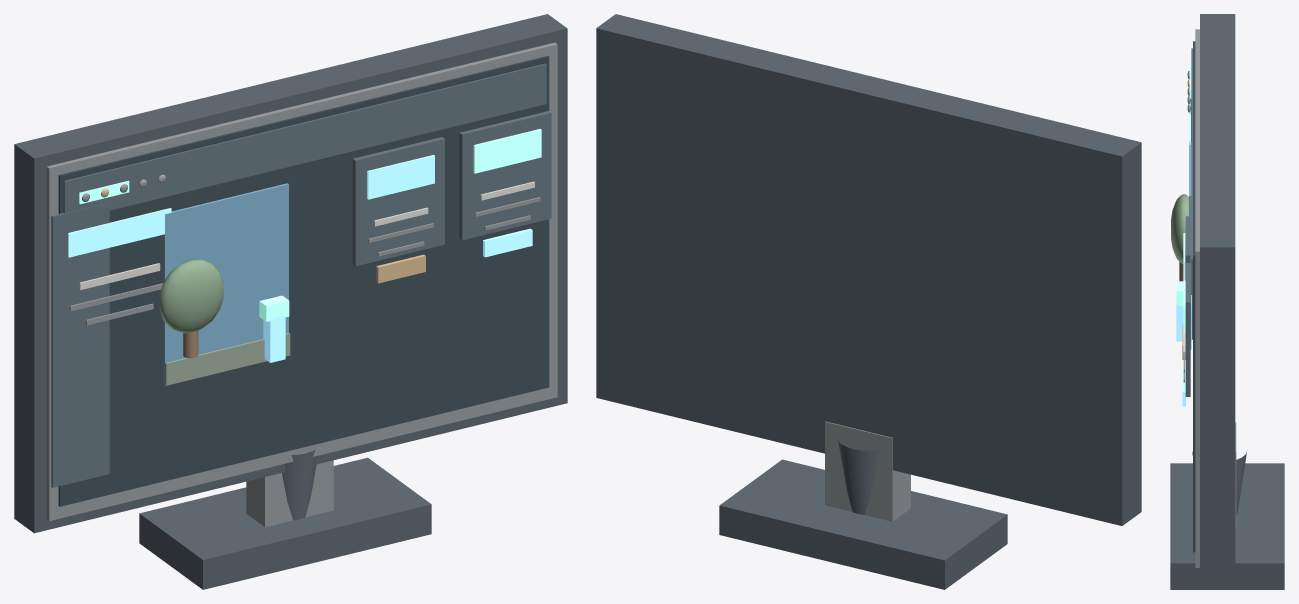
File: projet-portfolio-v3.glb
3 renders of one model, left to right at view 1: azimuth 30°, elevation 25°; view 2: azimuth 150°, elevation 25°; view 3: azimuth 270°, elevation 25°, orthographic. The views are drawn at different scales.
Parts seen in each view (by area): view 1: Display glass, Graphite monitor housing, Slate interface panels, Anodized aluminum rim, Diorama sky, Portfolio blue accents, Diorama foliage, Portfolio teal accents, Diorama moss ground, Neutral interface details, Project amber accent; view 2: Graphite monitor housing, Anodized aluminum rim; view 3: Graphite monitor housing, Anodized aluminum rim, Slate interface panels, Display glass, Diorama foliage, Portfolio blue accents, Diorama sky, Portfolio teal accents.
Part boxes in pixels (<box>): Display glass: <box>58,56,549,506</box>; Graphite monitor housing: <box>14,14,567,589</box>; Slate interface panels: <box>51,63,551,487</box>; Anodized aluminum rim: <box>46,42,557,526</box>; Diorama sky: <box>163,183,288,385</box>; Portfolio blue accents: <box>68,155,532,362</box>; Diorama foliage: <box>159,259,223,333</box>; Portfolio teal accents: <box>79,128,541,321</box>; Diorama moss ground: <box>164,332,290,385</box>; Neutral interface details: <box>79,181,534,290</box>; Project amber accent: <box>101,188,425,283</box>; Graphite monitor housing: <box>596,14,1141,589</box>; Anodized aluminum rim: <box>825,421,910,521</box>; Graphite monitor housing: <box>1170,14,1284,589</box>; Anodized aluminum rim: <box>1183,29,1236,567</box>; Slate interface panels: <box>1185,48,1192,396</box>; Display glass: <box>1193,41,1195,552</box>; Diorama foliage: <box>1171,194,1188,263</box>; Portfolio blue accents: <box>1176,101,1191,406</box>; Diorama sky: <box>1189,142,1191,349</box>; Portfolio teal accents: <box>1176,67,1191,333</box>.
Size of the model in its own units: 2.8 by 2.32 by 0.58.
